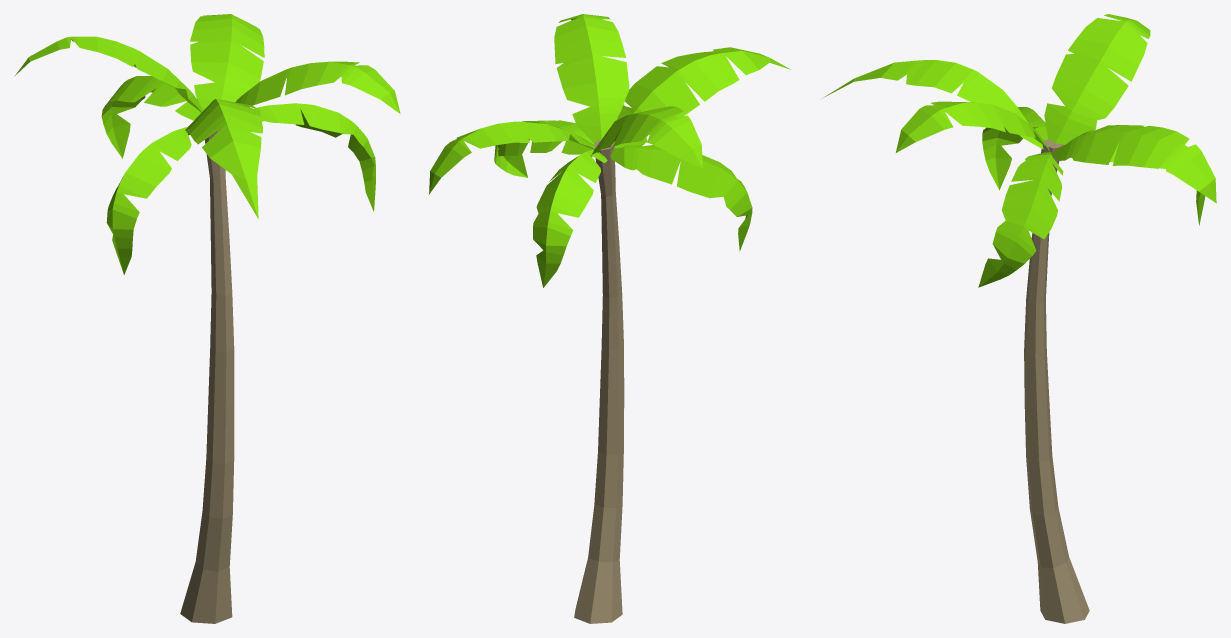
The model's file is palm08.fbx.
3 views of the same model, side by side, from view 1: azimuth 30°, elevation 25°; view 2: azimuth 150°, elevation 25°; view 3: azimuth 270°, elevation 25° (orthographic). The views are drawn at different scales.
Parts seen in each view (by area): view 1: palm.008; view 2: palm.008; view 3: palm.008.
Boxes of the visible parts, x1=… form: palm.008: x1=14, y1=14, x2=400, y2=623; palm.008: x1=429, y1=14, x2=790, y2=623; palm.008: x1=822, y1=14, x2=1216, y2=623.
Bounding box in the file's own units: 187 × 357 × 235.
